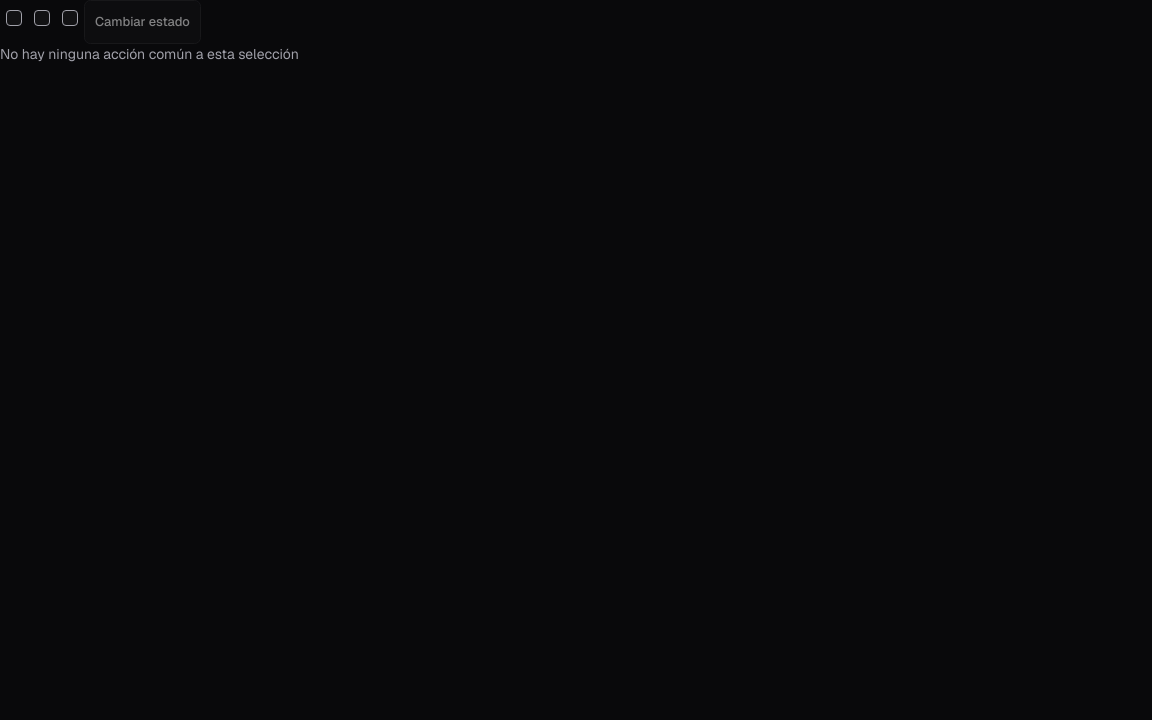
Scenario: OrderBulkStatusActions — the run ends by emptying the bar, so it has to say what it did › counts only the rows that applied when one of them was refused
What coordinates should you click on to do the following:
click the checkbox named "Seleccionar orden o1"
I would click on:
 (14, 18)
Its box is [6,10,22,26].
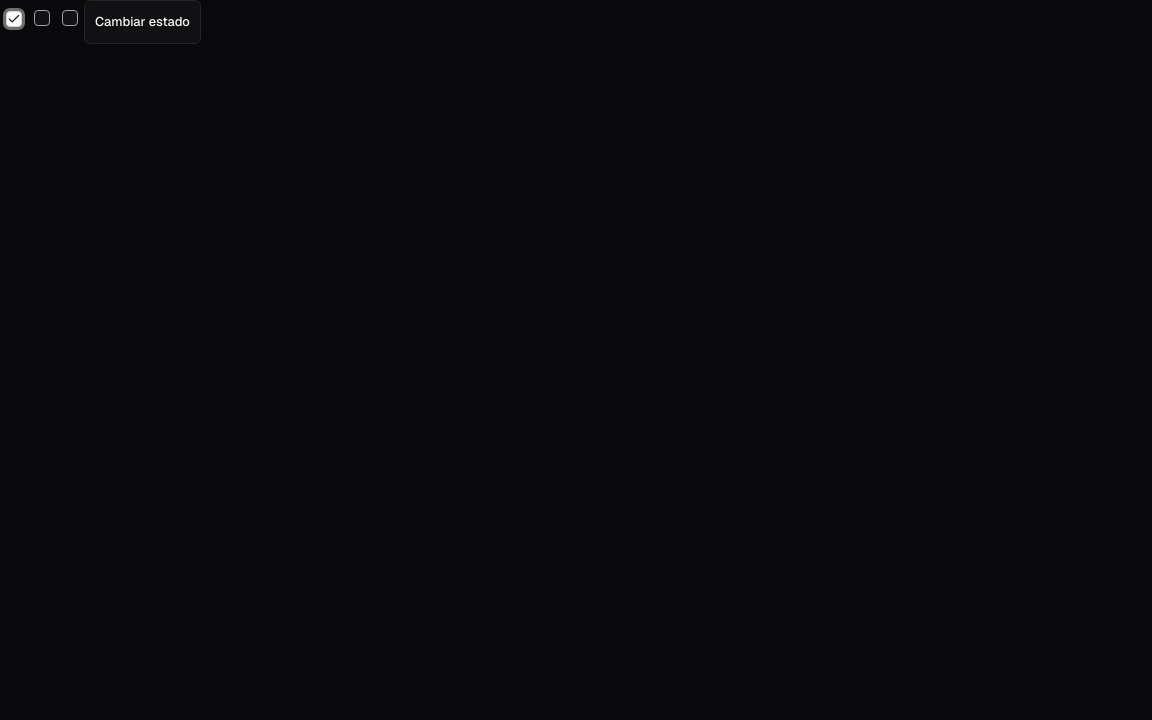
What coordinates should you click on to do the following:
click the checkbox named "Seleccionar orden o2"
I would click on:
 (42, 18)
Its box is [34,10,50,26].
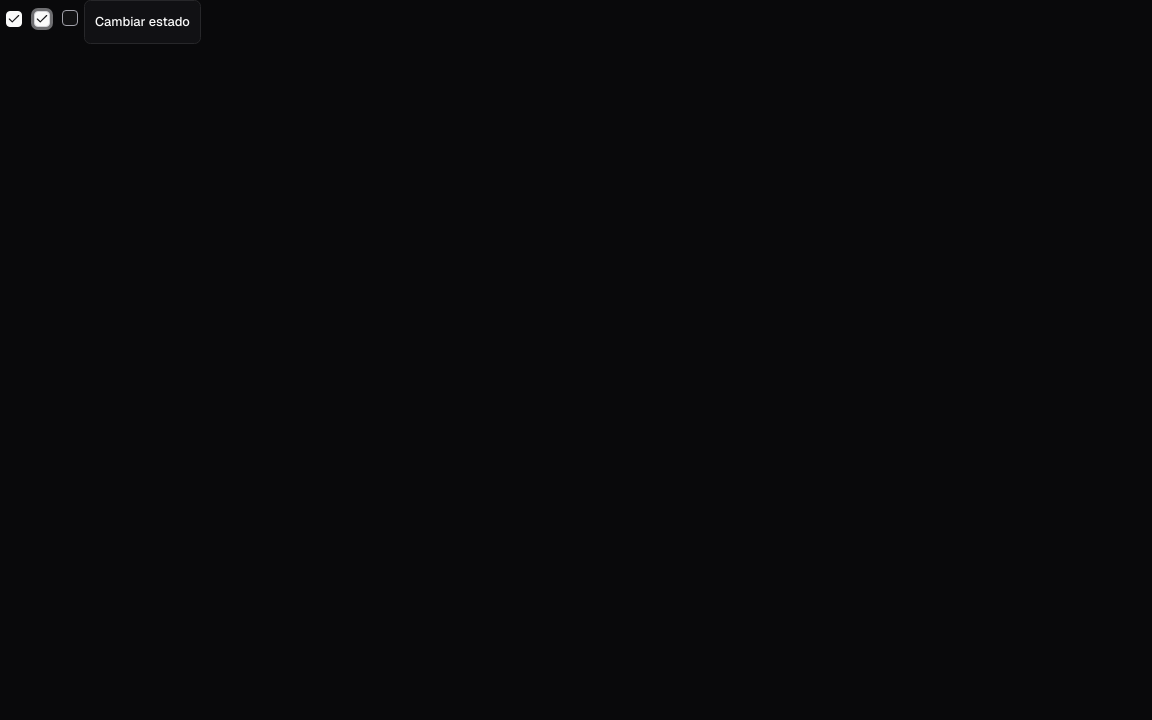
What coordinates should you click on to do the following:
click the checkbox named "Seleccionar orden o3"
I would click on:
 (70, 18)
Its box is [62,10,78,26].
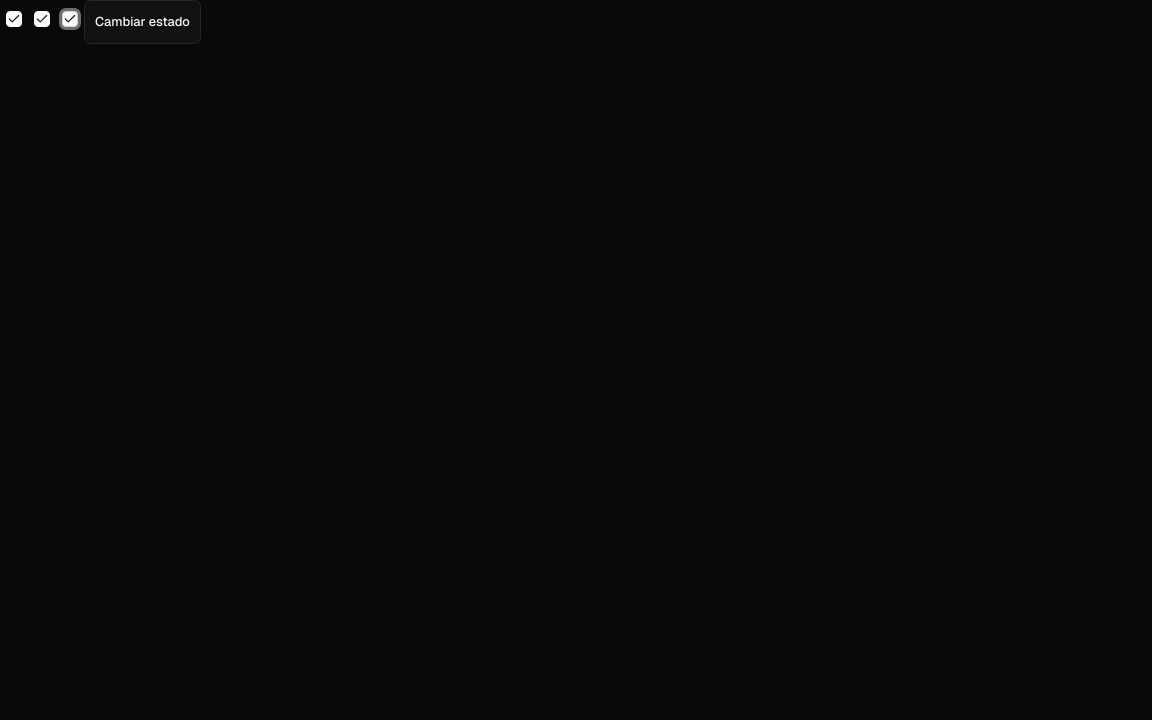
What coordinates should you click on to do the following:
click the button "Cambiar estado"
I would click on:
 (142, 22)
Its box is [84,0,201,44].
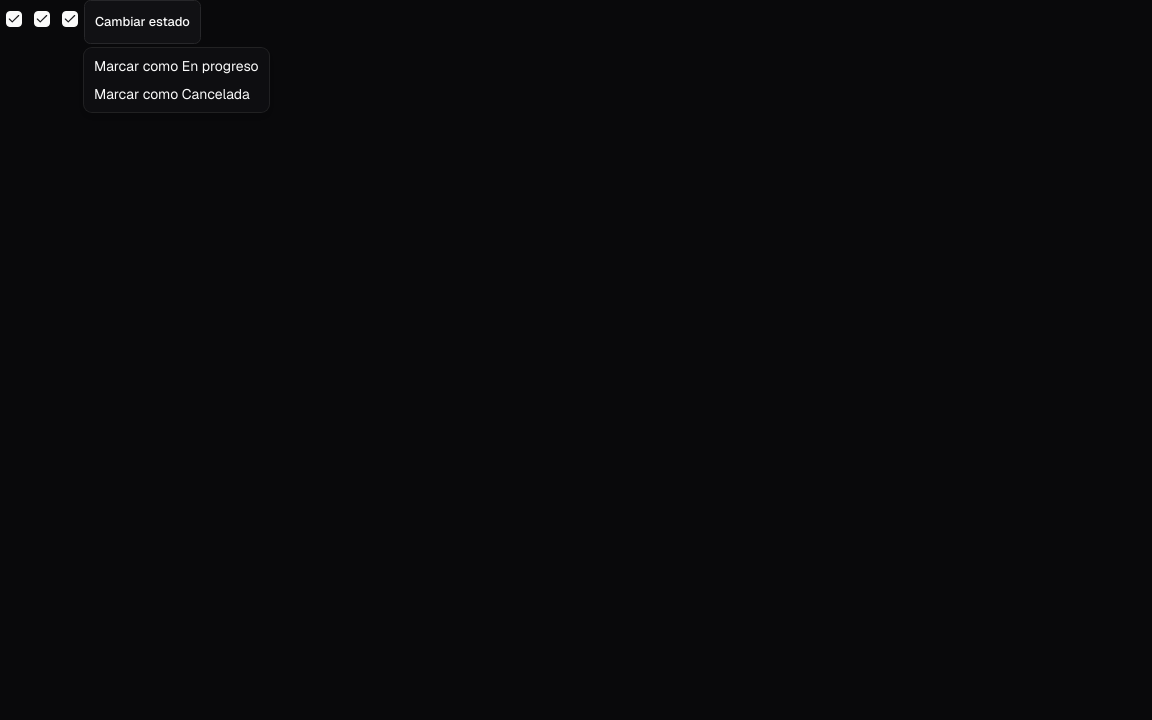
Now the menu is shown, box [84,48,269,112]
What coordinates should you click on to do the following:
click the menu item "Marcar como En progreso"
I would click on:
 (176, 66)
Its box is [88,52,265,80].
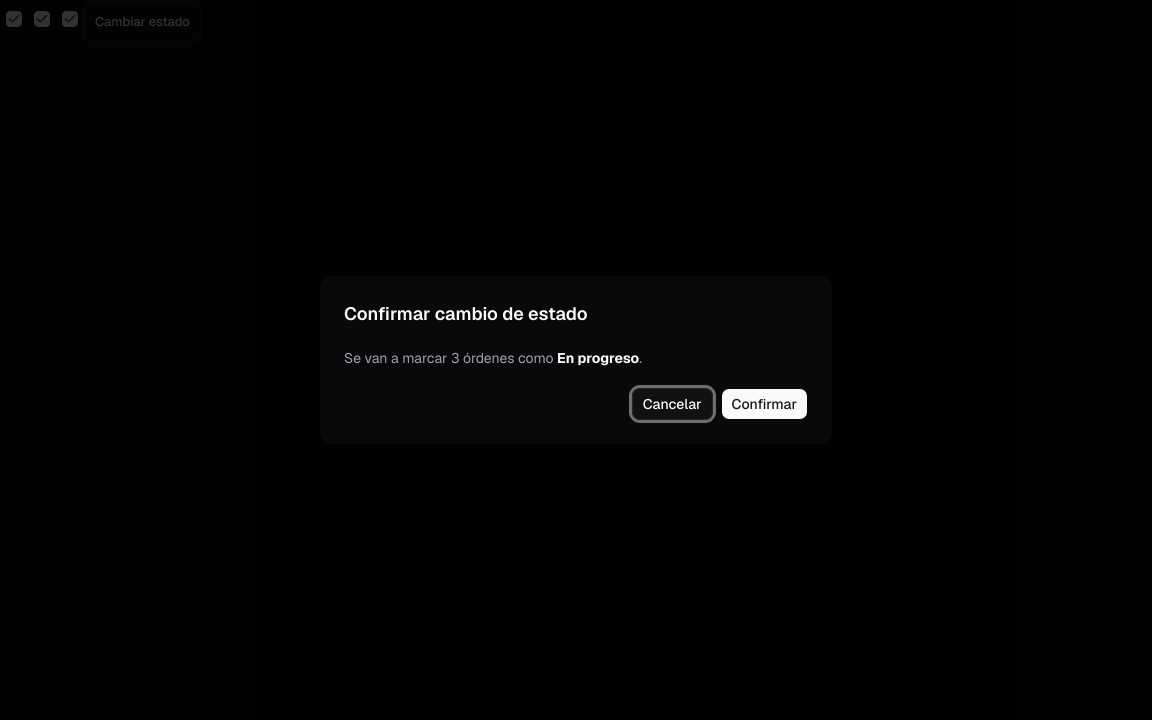
What coordinates should you click on to do the following:
click the button "Confirmar"
I would click on:
 (764, 404)
Its box is [721,388,808,420].
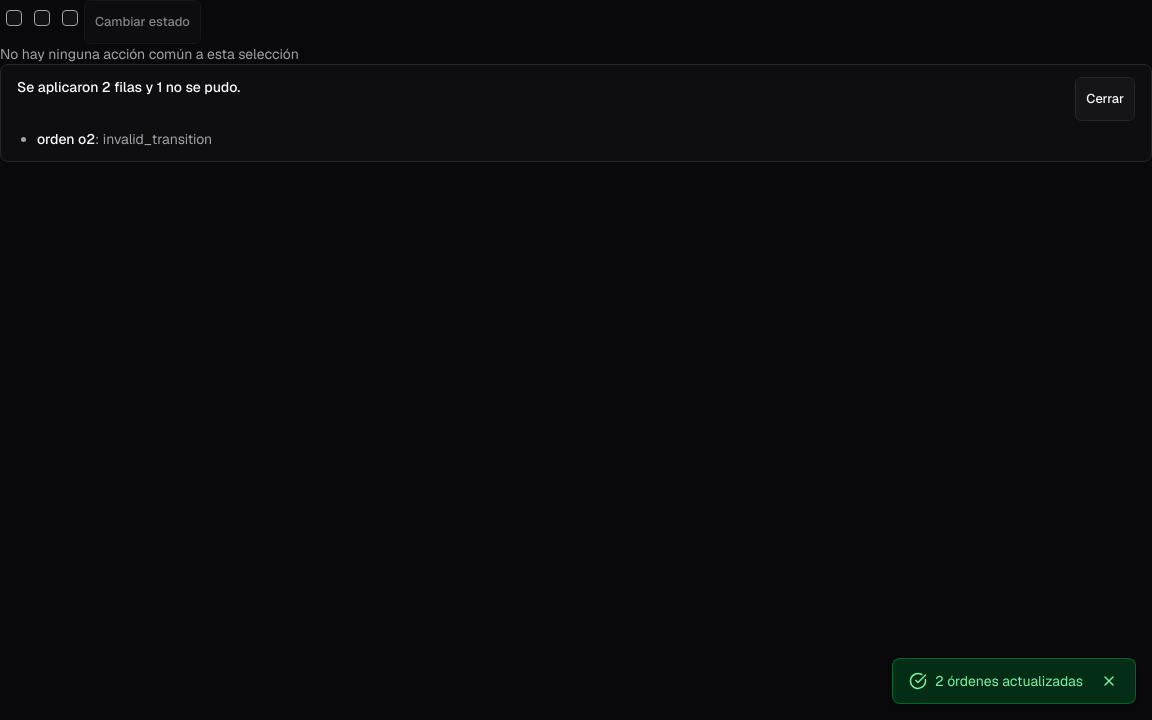
Now the text "2 órdenes actualizadas" is shown, box [935,671,1083,691]
